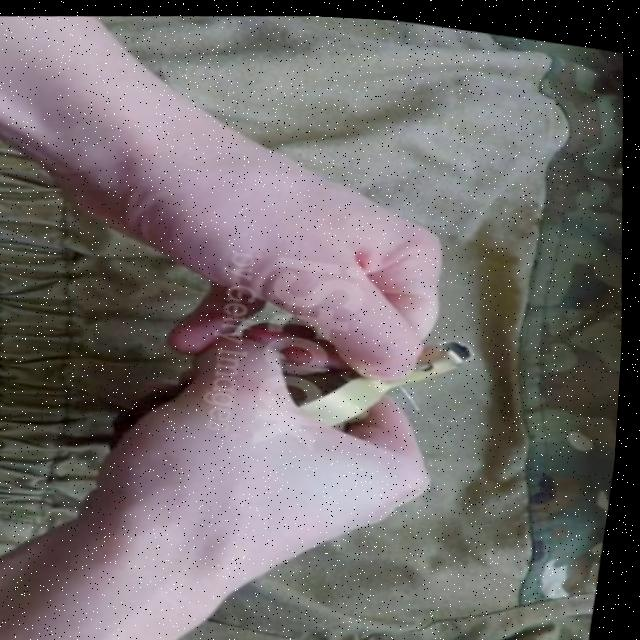grenade: (118, 278, 485, 493)
